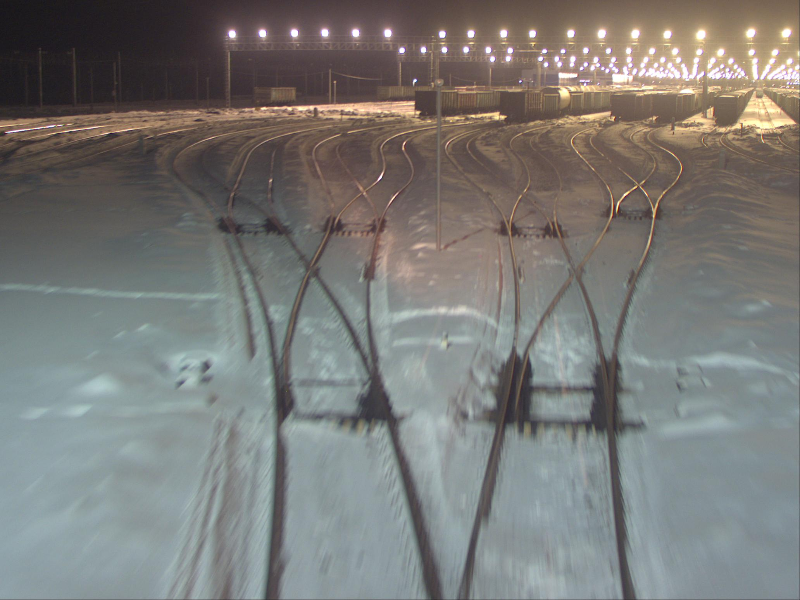left: (502, 346, 624, 436), (267, 351, 397, 417), (327, 210, 386, 244), (604, 194, 660, 227), (217, 208, 289, 233)
right: (498, 213, 567, 241)
